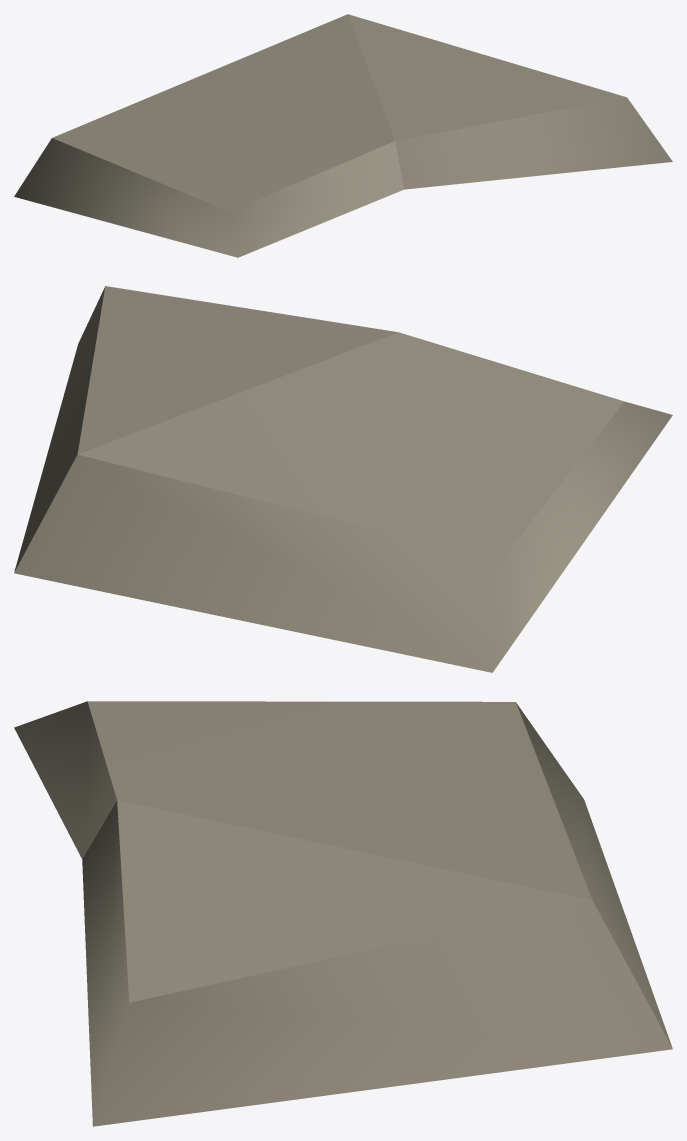
The model's file is Stones_1b.fbx.
3 views of the same model, one above another, from view 1: azimuth 30°, elevation 25°; view 2: azimuth 150°, elevation 25°; view 3: azimuth 270°, elevation 25° (orthographic). The views are drawn at different scales.
Visible parts, largest first — view 1: Stones_1b; view 2: Stones_1b; view 3: Stones_1b.
Boxes of the visible parts, x1=… form: Stones_1b: x1=14, y1=14, x2=672, y2=257; Stones_1b: x1=14, y1=286, x2=672, y2=672; Stones_1b: x1=14, y1=701, x2=672, y2=1126.
Size of the model in its own units: 45.39 by 9.68 by 33.84.
